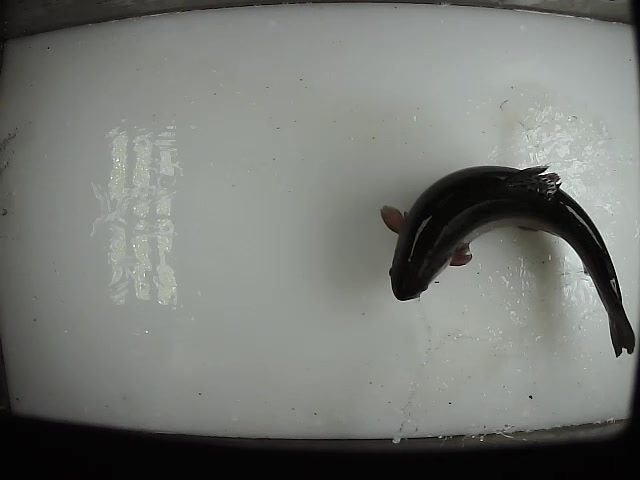fish: (378, 163, 637, 358)
